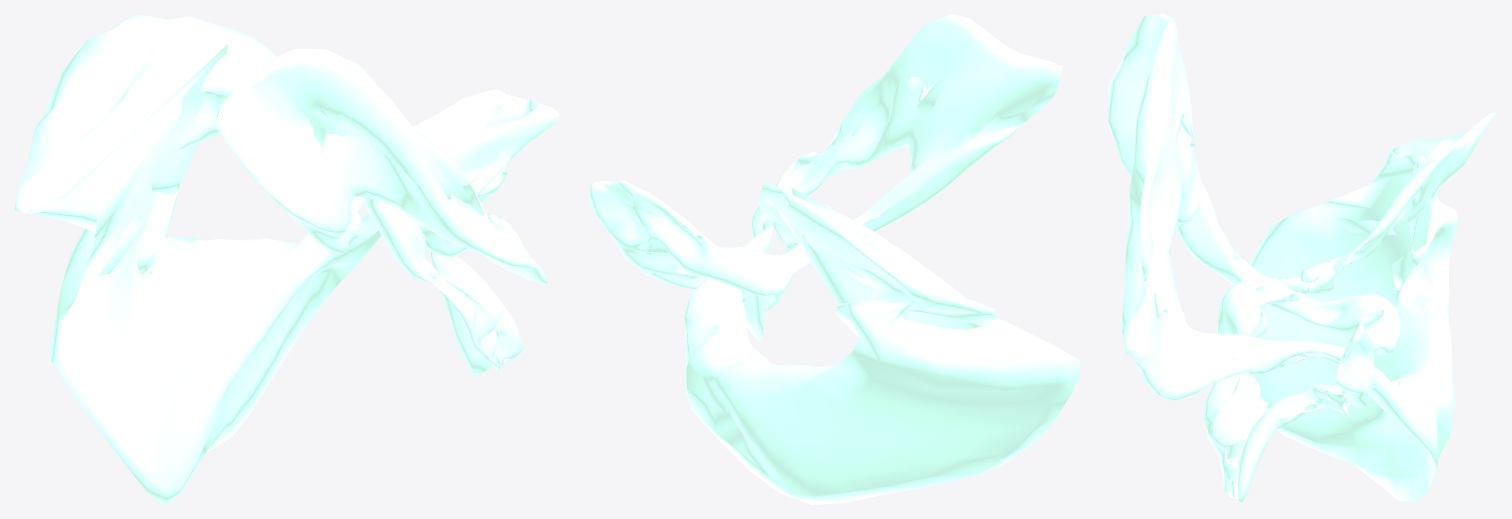
File: sphereTransform001.glb
The picture shows the model from 3 angles, left to right: view 1: azimuth 30°, elevation 25°; view 2: azimuth 150°, elevation 25°; view 3: azimuth 270°, elevation 25°; orthographic projection. The views are drawn at different scales.
Visible parts, largest first — view 1: TorusKnot; view 2: TorusKnot; view 3: TorusKnot.
Boxes of the visible parts, x1=… form: TorusKnot: x1=14, y1=14, x2=559, y2=504; TorusKnot: x1=588, y1=14, x2=1079, y2=504; TorusKnot: x1=1108, y1=14, x2=1496, y2=504.
Bounding box in the file's own units: 0.9164 × 0.8031 × 0.6232.
